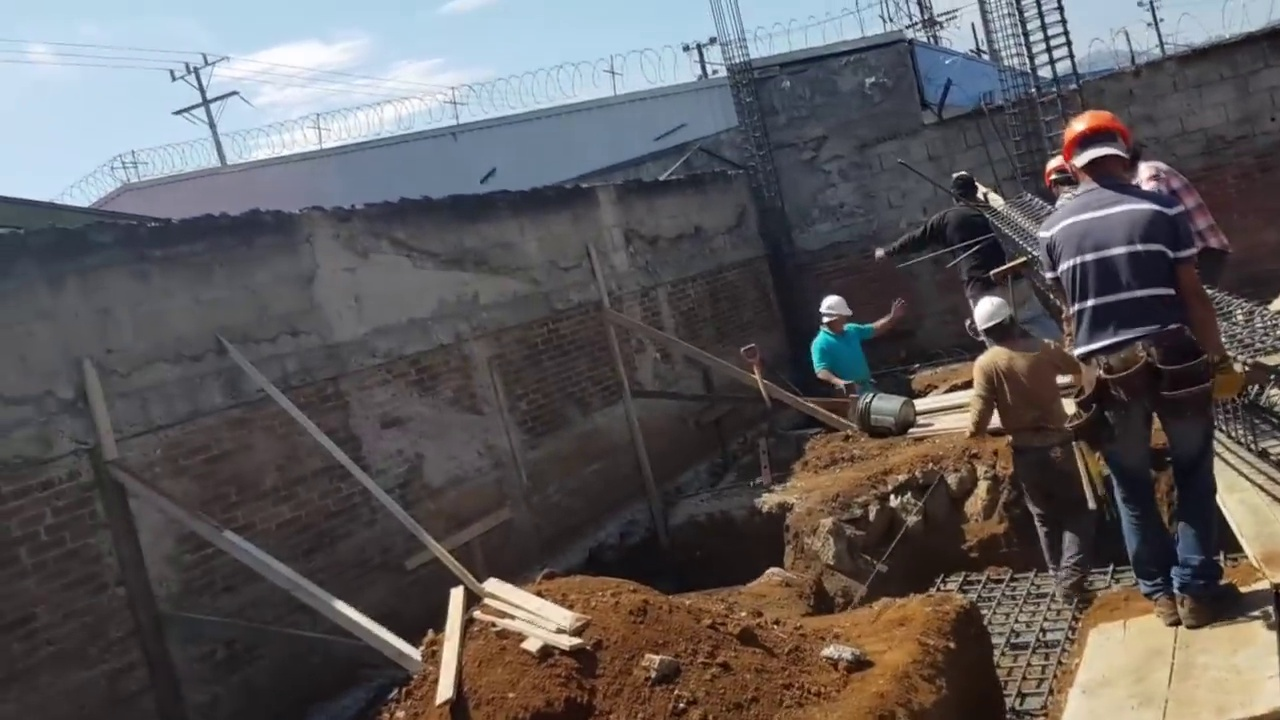helmet: (1060, 107, 1133, 170), (972, 292, 1011, 331), (1044, 155, 1073, 186), (819, 293, 853, 316)
helmet-off: (957, 173, 988, 203)
helmet-on: (1061, 108, 1134, 194), (973, 291, 1013, 345), (1044, 155, 1077, 204), (819, 294, 852, 336)
person: (1038, 107, 1248, 621), (970, 292, 1117, 602), (873, 173, 1007, 309), (1128, 152, 1232, 289), (812, 293, 913, 404)
